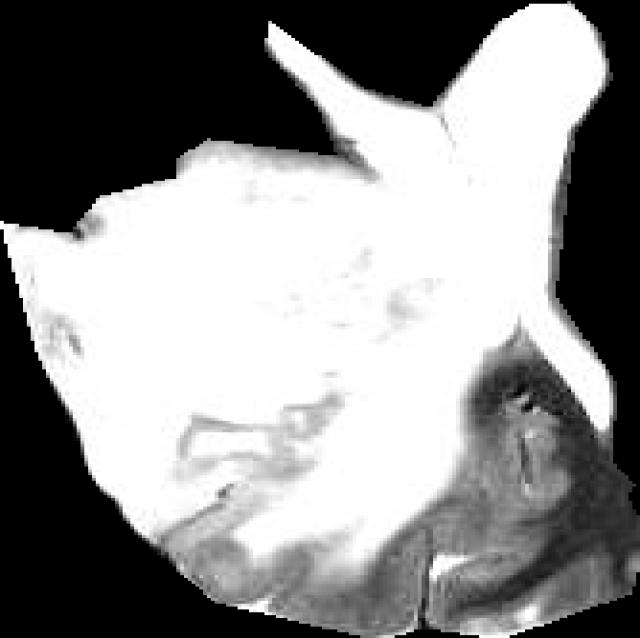tumor_less_chance: (0, 1, 640, 638)
